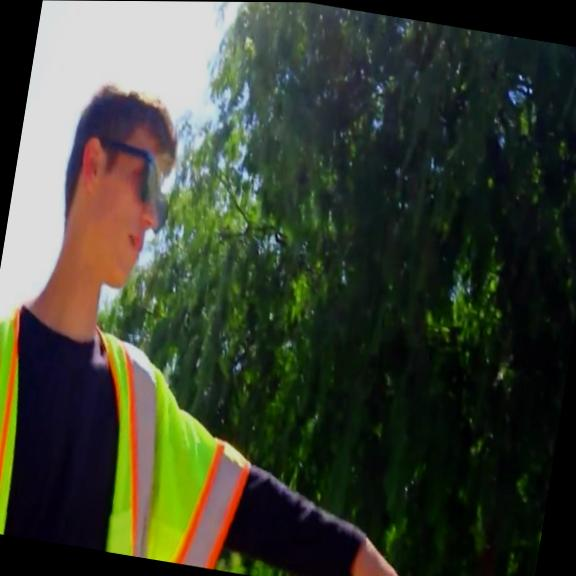safety_vest: (0, 303, 273, 573)
